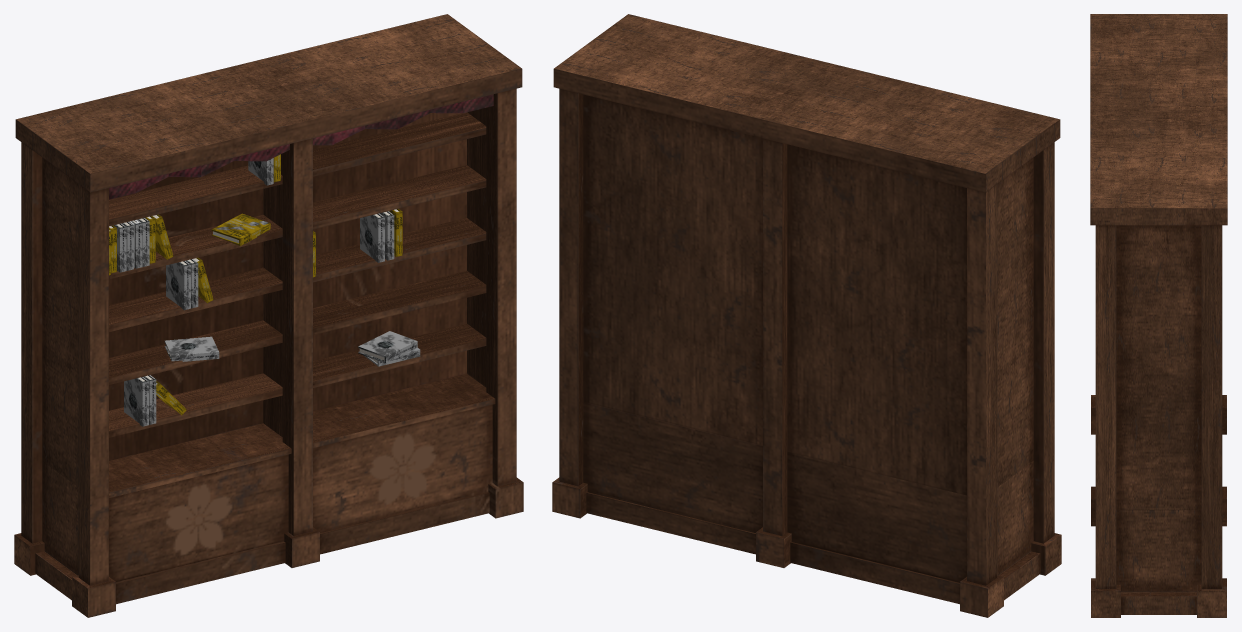
Rendered from OldMagicBookshelf.fbx.
The picture shows the model from 3 angles, left to right: view 1: azimuth 30°, elevation 25°; view 2: azimuth 150°, elevation 25°; view 3: azimuth 270°, elevation 25°; orthographic projection. The views are drawn at different scales.
Visible parts, largest first — view 1: Shelf, Book009, Book0026, Book0010, Book004, Book0013, Book0027; view 2: Shelf; view 3: Shelf.
Boxes of the visible parts, <box> form: Shelf: <box>14,14,523,617</box>; Book009: <box>358,331,417,363</box>; Book0026: <box>211,213,270,245</box>; Book0010: <box>164,336,219,361</box>; Book004: <box>360,213,384,262</box>; Book0013: <box>166,260,190,310</box>; Book0027: <box>124,377,148,426</box>; Shelf: <box>552,14,1061,617</box>; Shelf: <box>1090,14,1227,617</box>.
Bounding box in the file's own units: 856 × 833 × 254.
Materials: 5 (5 with a texture image).
